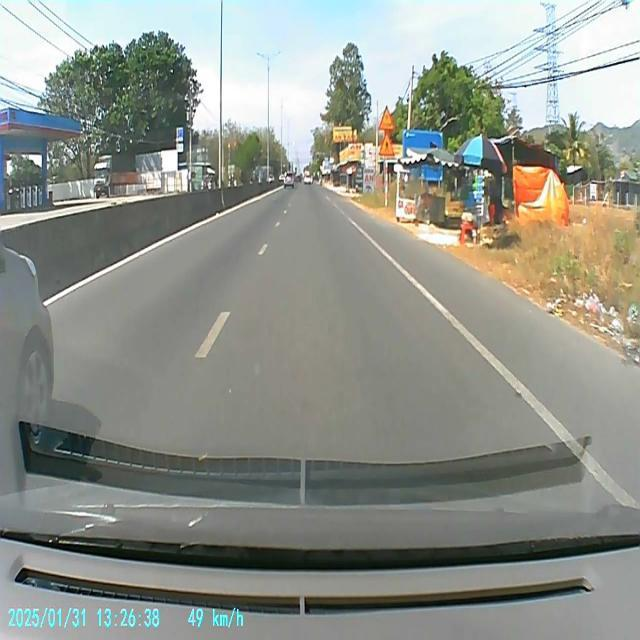224-duong-nguoi-di-bo-cat-ngang: (378, 132, 396, 156)
245-di-cham: (377, 105, 395, 132)
